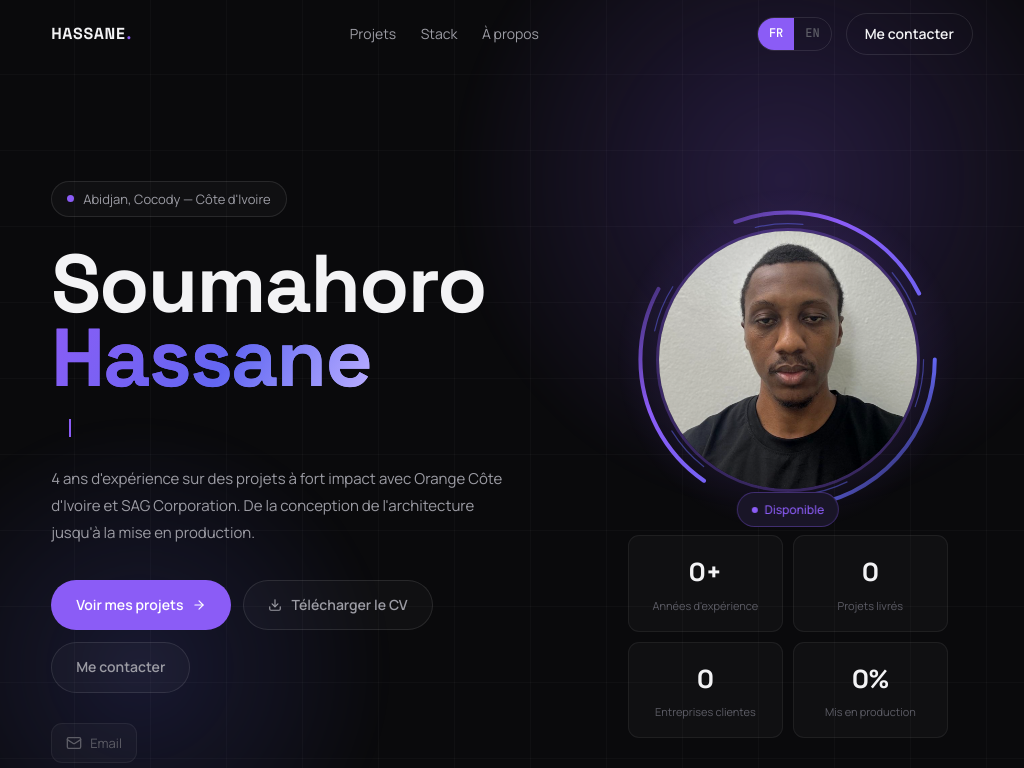
Test: App › bascule en anglais via le toggle
Step 1. Click the button "EN" → click(812, 34), box [794, 18, 831, 50]
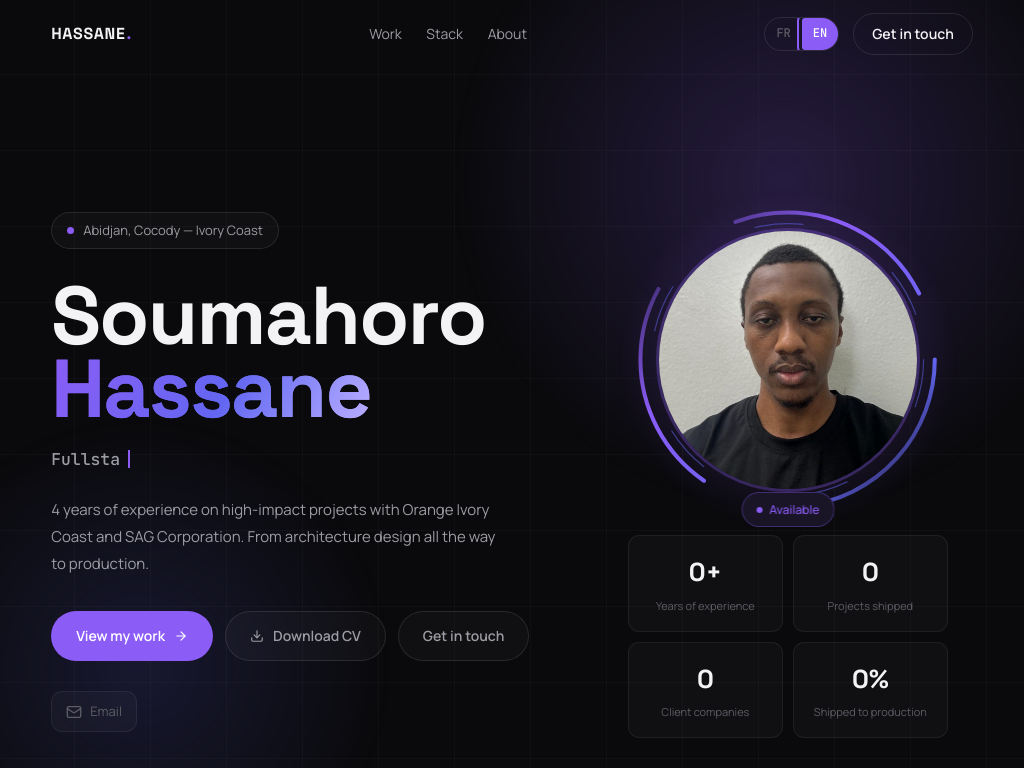
expect the link "View my work" is shown: met, box [51, 611, 213, 661]
